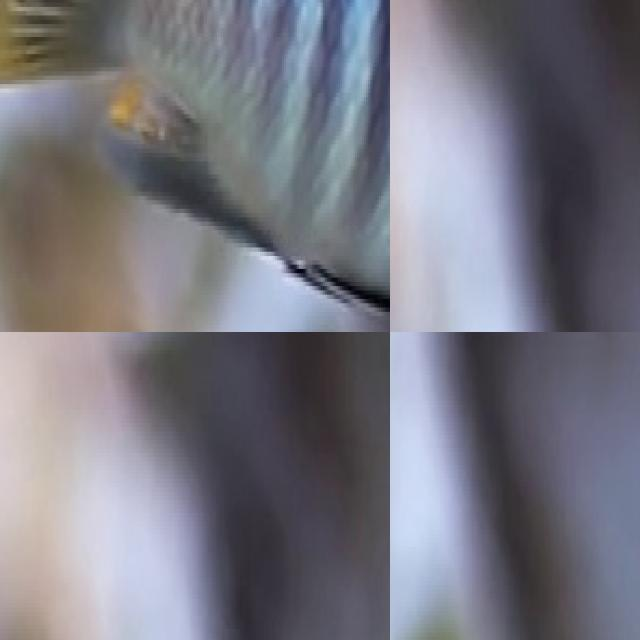fish: (0, 0, 390, 332), (0, 547, 305, 640)
